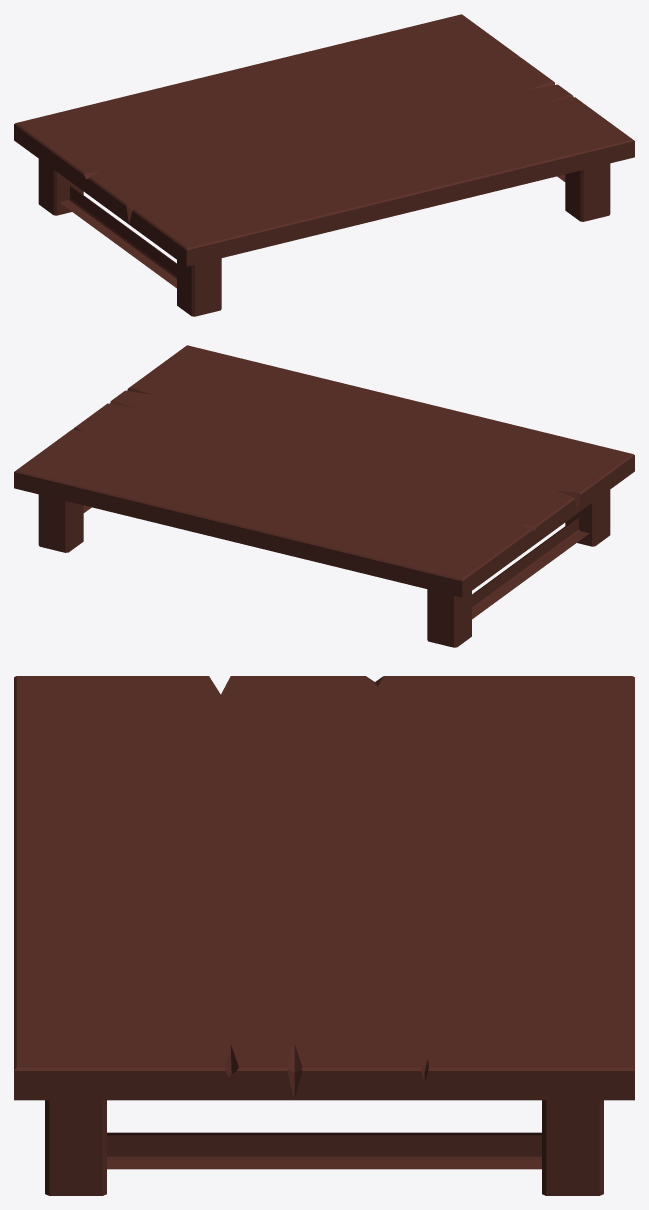
Rendered from table_big.gltf.
The picture shows the model from 3 angles, top to bottom: view 1: azimuth 30°, elevation 25°; view 2: azimuth 150°, elevation 25°; view 3: azimuth 270°, elevation 25°; orthographic projection. The views are drawn at different scales.
Visible parts, largest first — view 1: Cube.001; view 2: Cube.001; view 3: Cube.001.
Part boxes in pixels (x1=…): Cube.001: x1=14, y1=14, x2=634, y2=316; Cube.001: x1=14, y1=345, x2=634, y2=647; Cube.001: x1=14, y1=676, x2=634, y2=1195.
Size of the model in its own units: 3 by 0.4995 by 2.
